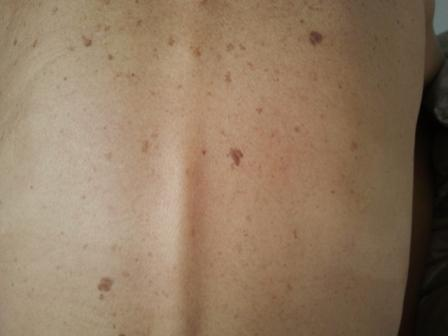mole: (89, 271, 123, 303), (221, 139, 252, 174), (302, 23, 333, 54)
